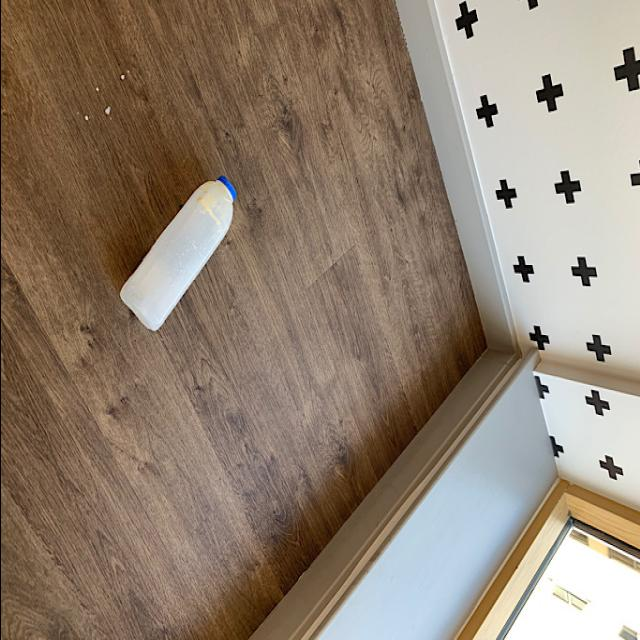litter: (118, 174, 236, 335)
